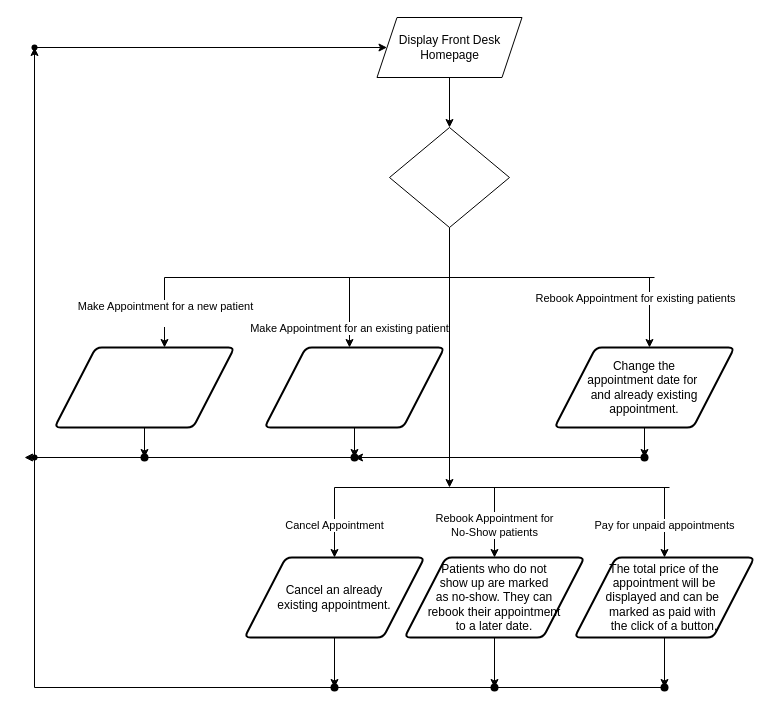
The diagram is 773 pixels wide and 716 high, and some of its shapes have lost their labels. The shapes that lost their labels are listed below. From the top down, each one's centre as x and y in pixels, then its label:
At [449,177]: "Option Selection".
At [144,387]: "Enter the details of the patient. Assign a token number for the appointment.".
At [354,387]: "Assign a token number for the appointment of an existing patient,".
